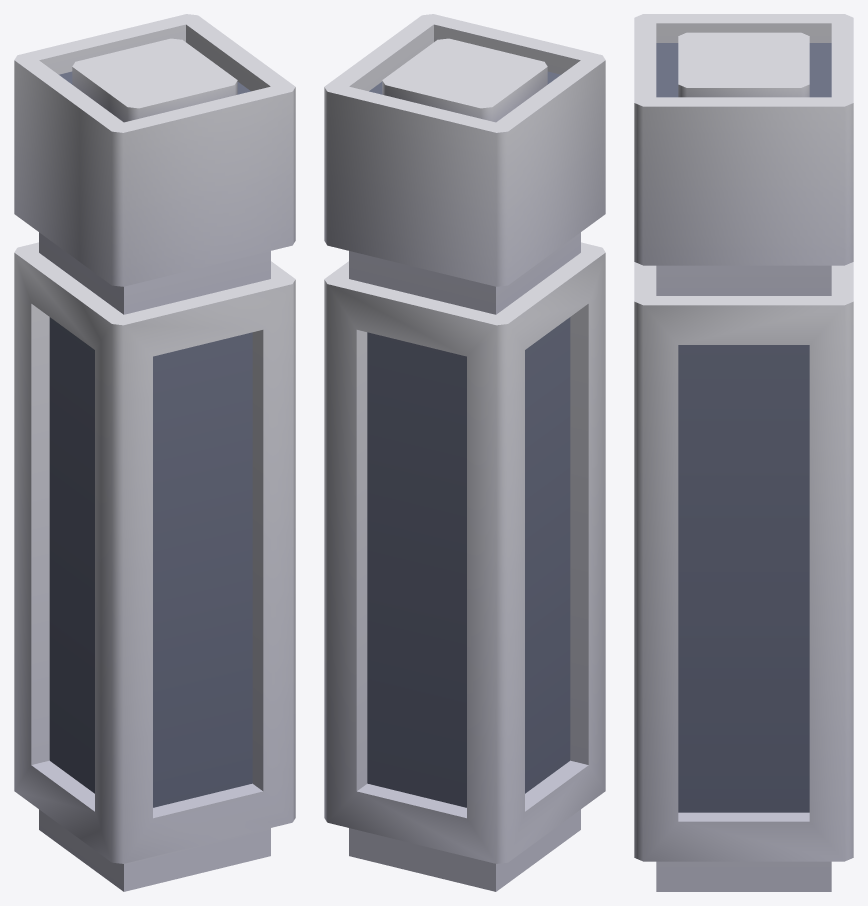
Rendered from low-detail-building-a.glb.
3 views of the same model, side by side, from view 1: azimuth 30°, elevation 25°; view 2: azimuth 150°, elevation 25°; view 3: azimuth 270°, elevation 25° (orthographic). The views are drawn at different scales.
Visible parts, largest first — view 1: low-detail-building-a; view 2: low-detail-building-a; view 3: low-detail-building-a.
Boxes of the visible parts, x1,y1,x2,y2 form: low-detail-building-a: (14,14,295,891); low-detail-building-a: (324,14,605,891); low-detail-building-a: (634,14,853,891).
Size of the model in its own units: 0.5 by 2 by 0.5.
1 material, 1 textured.
